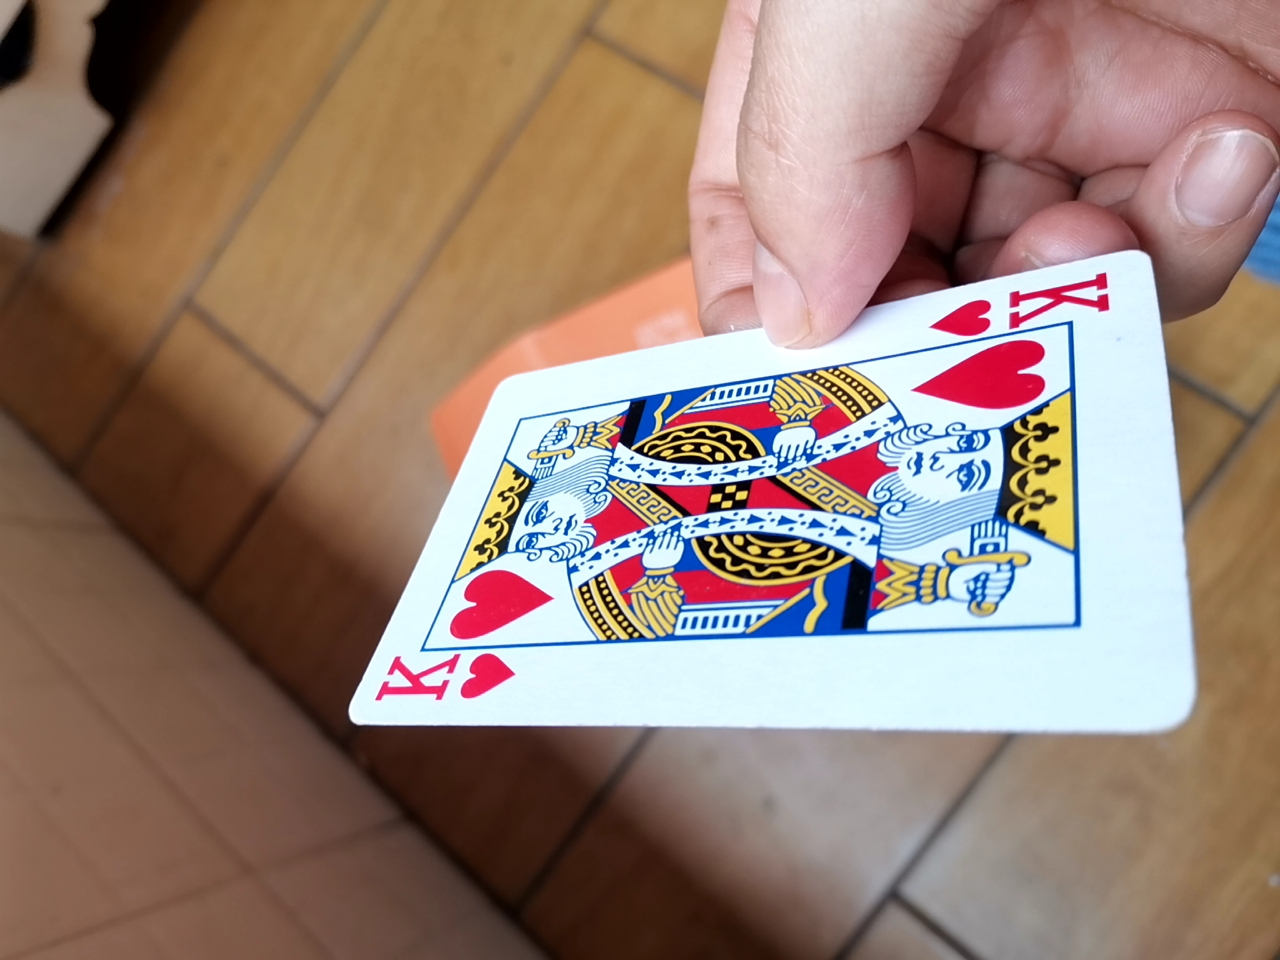hx k: (325, 269, 1189, 734)
